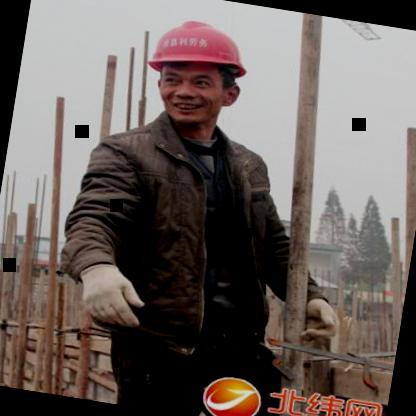helmet: (127, 1, 266, 145)
